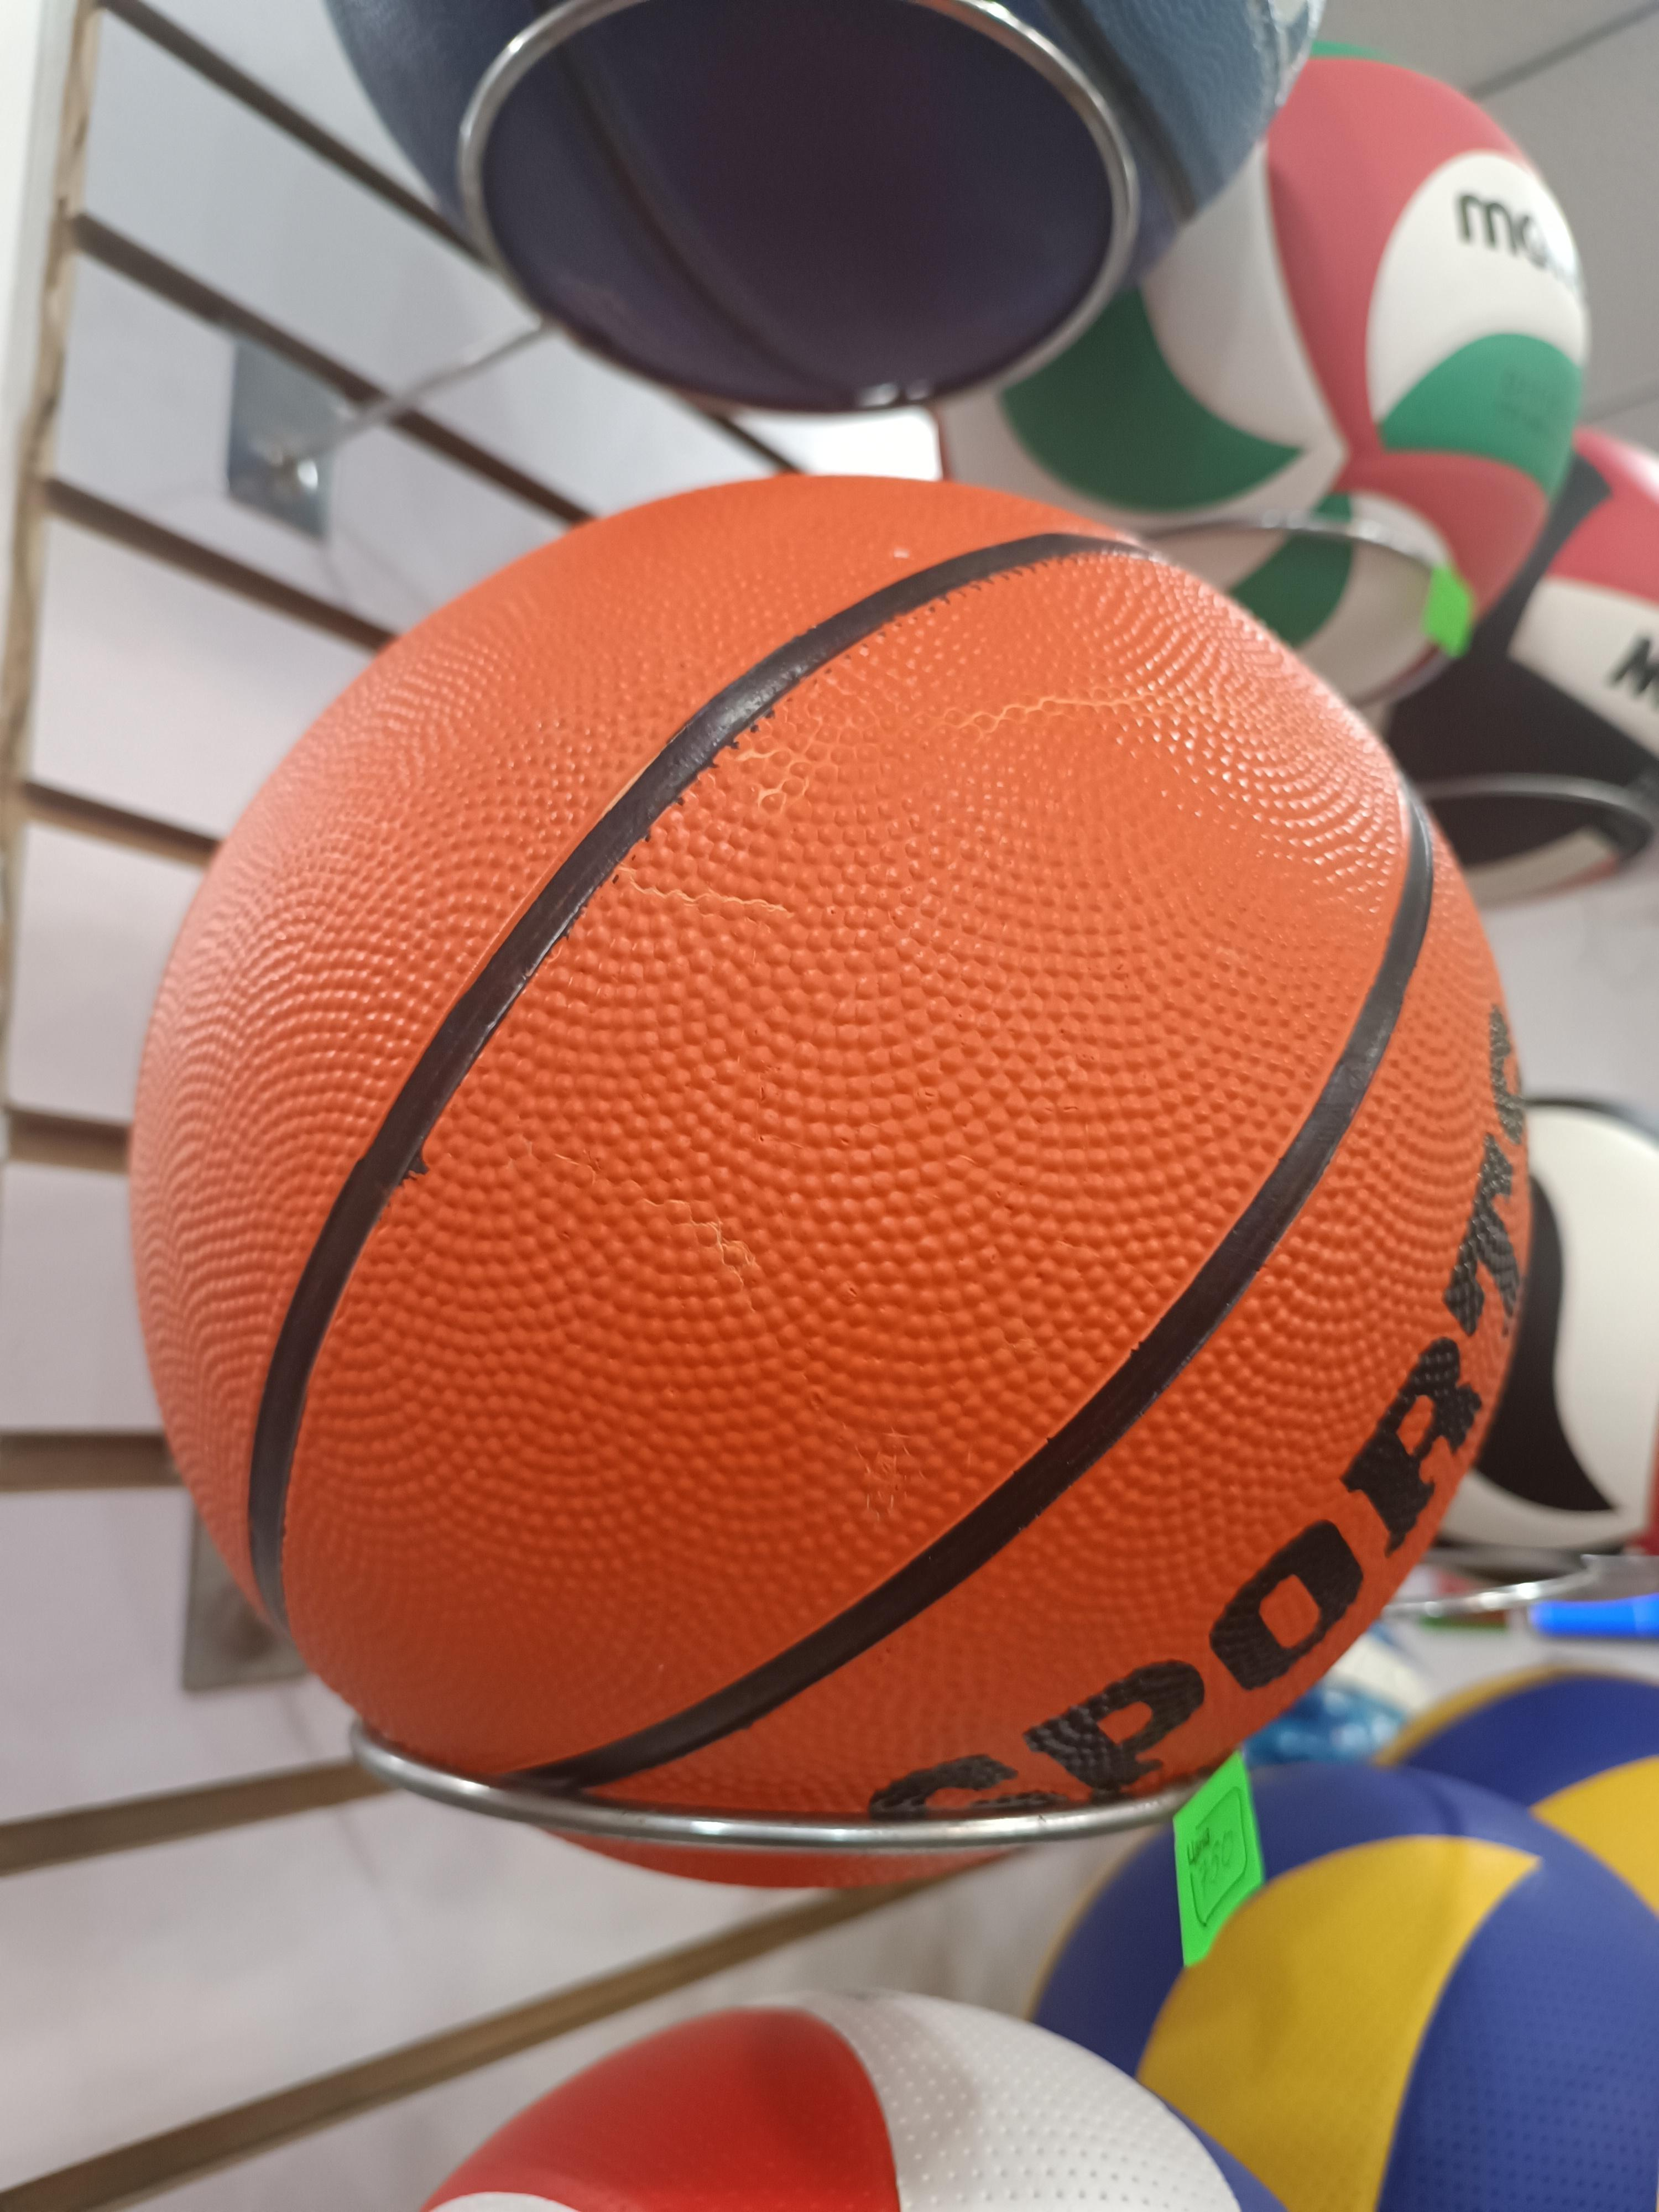Sports-Ball: (129, 479, 1530, 1883)
